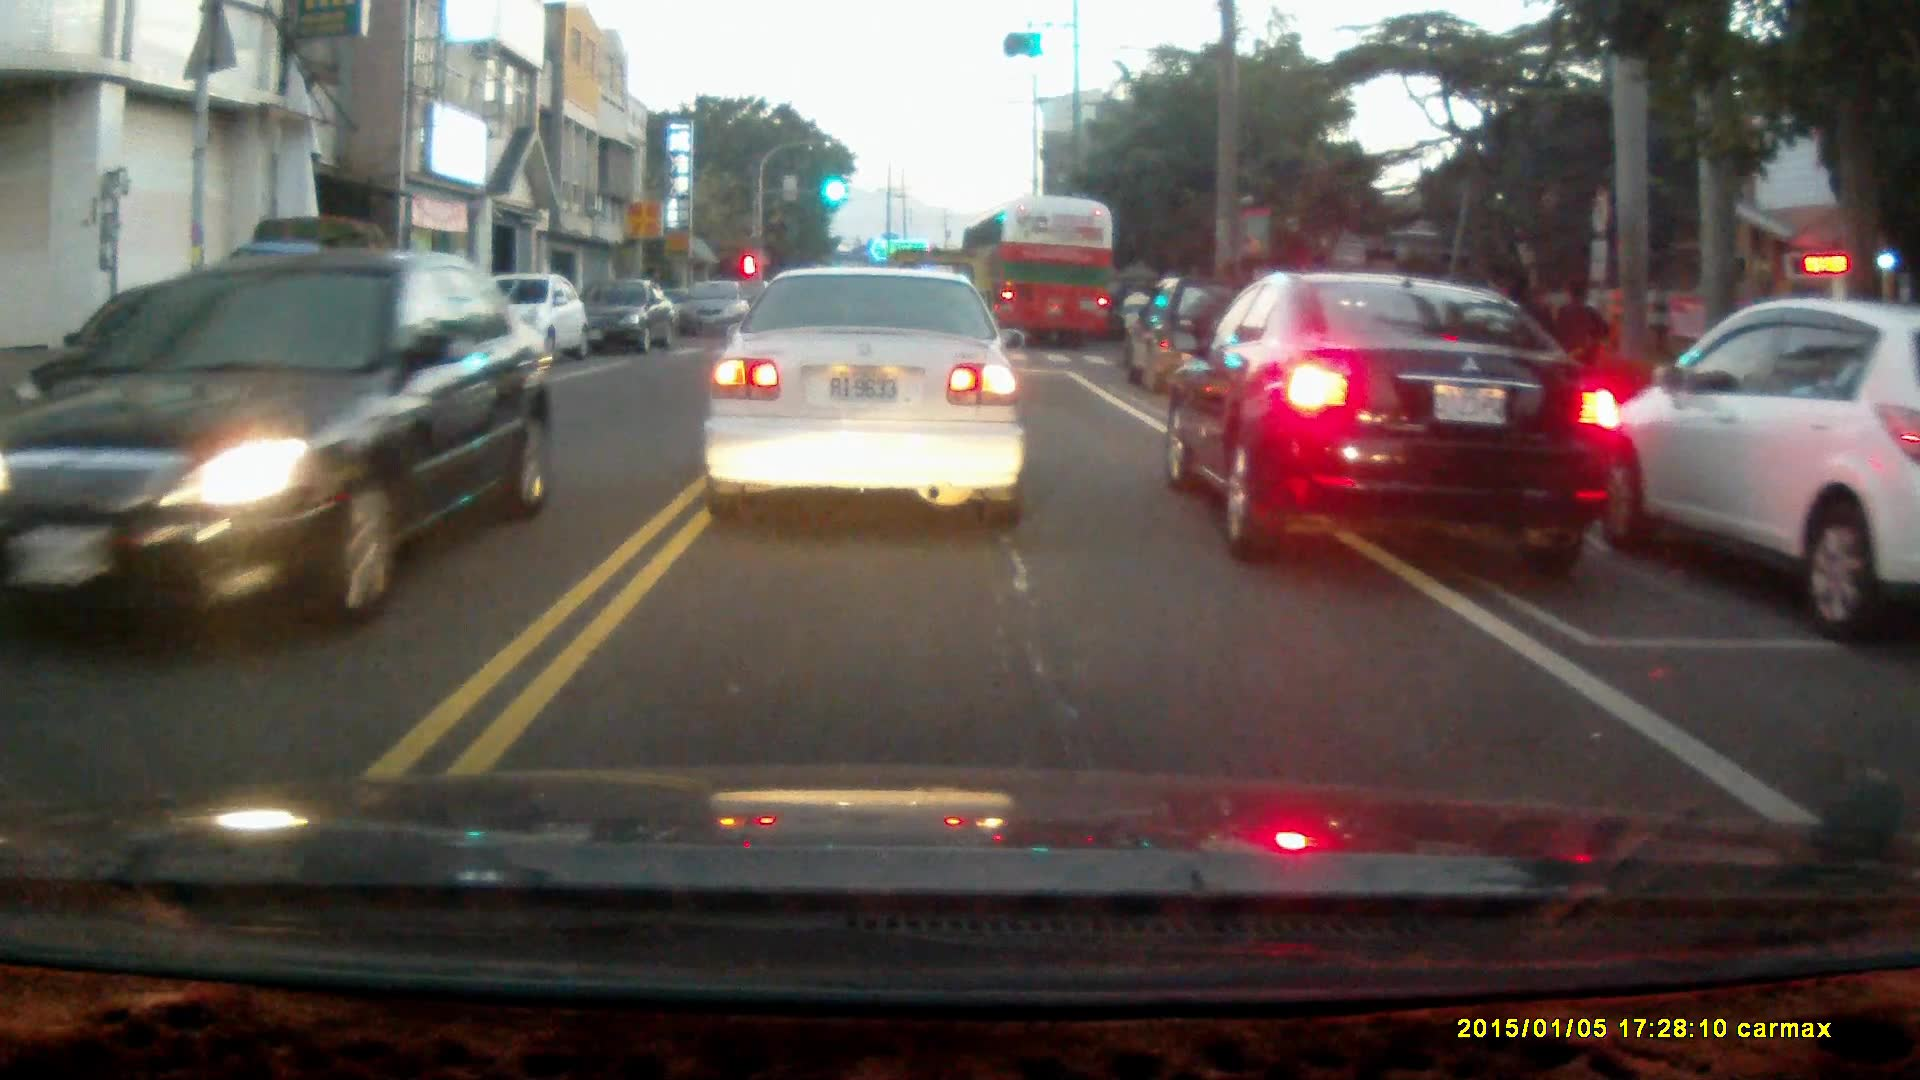pedestrian: (1551, 276, 1607, 412)
rider: (1119, 280, 1154, 357)
vehicle: (1, 250, 563, 648), (1164, 274, 1627, 566), (1579, 296, 1920, 622), (702, 264, 1029, 529), (200, 217, 436, 405), (962, 203, 1114, 356), (1128, 279, 1285, 400), (457, 276, 594, 376), (573, 277, 679, 360), (680, 283, 755, 342)
